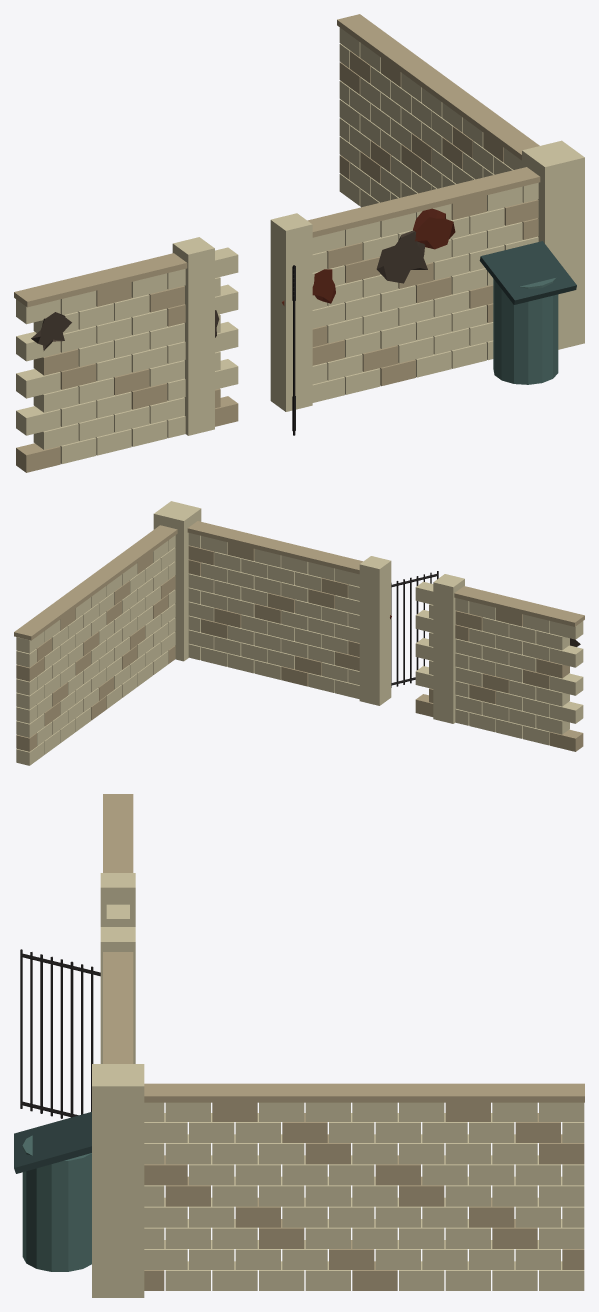
Rendered from suburbs_yard_wall.glb.
3 views of the same model, one above another, from view 1: azimuth 30°, elevation 25°; view 2: azimuth 150°, elevation 25°; view 3: azimuth 270°, elevation 25° (orthographic). The views are drawn at different scales.
Parts seen in each view (by area): view 1: suburbs_yard_wall; view 2: suburbs_yard_wall; view 3: suburbs_yard_wall.
Part boxes in pixels (x1,y1,x2,y2): suburbs_yard_wall: (14,14,584,472); suburbs_yard_wall: (14,501,584,765); suburbs_yard_wall: (14,794,584,1297).
Size of the model in its own units: 6.22 by 2 by 4.89.
